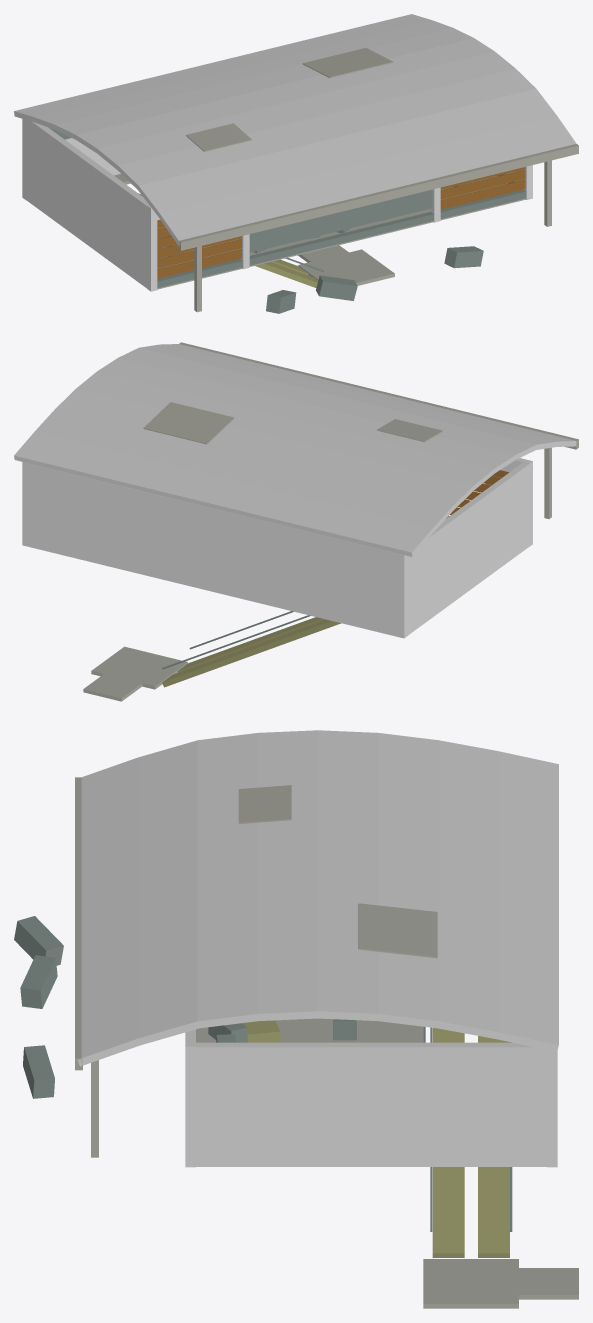
The model's file is SM_VestibuloCastellon_v2_EnLiberacion_LOD0.fbx.
3 renders of one model, top to bottom at view 1: azimuth 30°, elevation 25°; view 2: azimuth 150°, elevation 25°; view 3: azimuth 270°, elevation 25°, orthographic. The views are drawn at different scales.
Visible parts, largest first — view 1: Cubierta, SM_vestibulo_castellon_v2_LOD0; view 2: Cubierta, SM_vestibulo_castellon_v2_LOD0; view 3: Cubierta, SM_vestibulo_castellon_v2_LOD0.
Boxes of the visible parts, x1,y1,x2,y2 form: Cubierta: (14,14,578,312); SM_vestibulo_castellon_v2_LOD0: (22,119,532,313); Cubierta: (14,342,578,556); SM_vestibulo_castellon_v2_LOD0: (22,458,532,701); Cubierta: (75,730,558,1157); SM_vestibulo_castellon_v2_LOD0: (14,916,578,1308).
Bounding box in the file's own units: 25 × 14.26 × 21.24.
